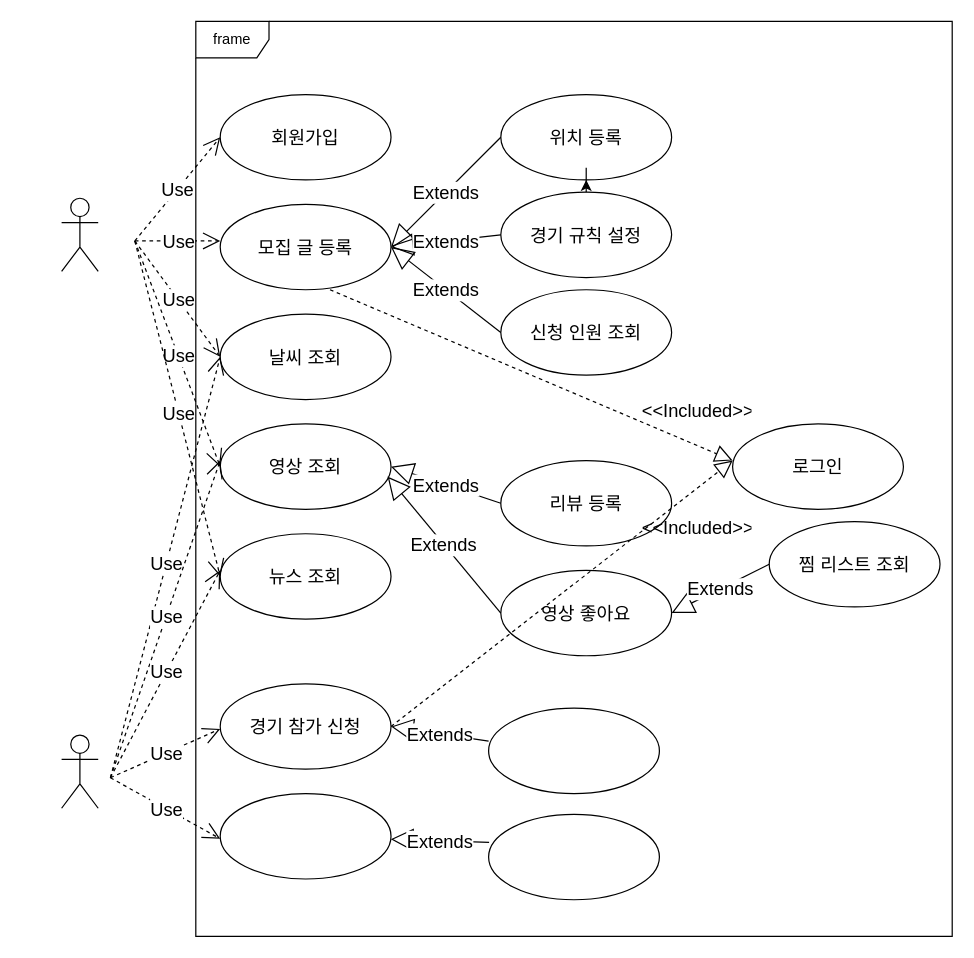
Some shapes in this 974 by 958 pixel diagram are drawn without their labels. Each missing label, with the box of its shape:
검색 조회: (487, 813, 659, 900)
사용자 1 (팀장): (60, 197, 98, 271)
사용자 2 (팀원): (60, 734, 98, 808)
지도 조회: (487, 707, 659, 794)
팀 조회: (219, 792, 391, 879)
